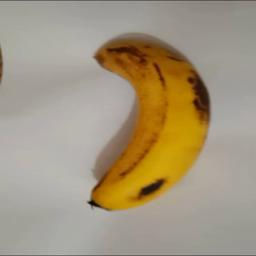Banana Semifresh: (82, 35, 211, 215)
